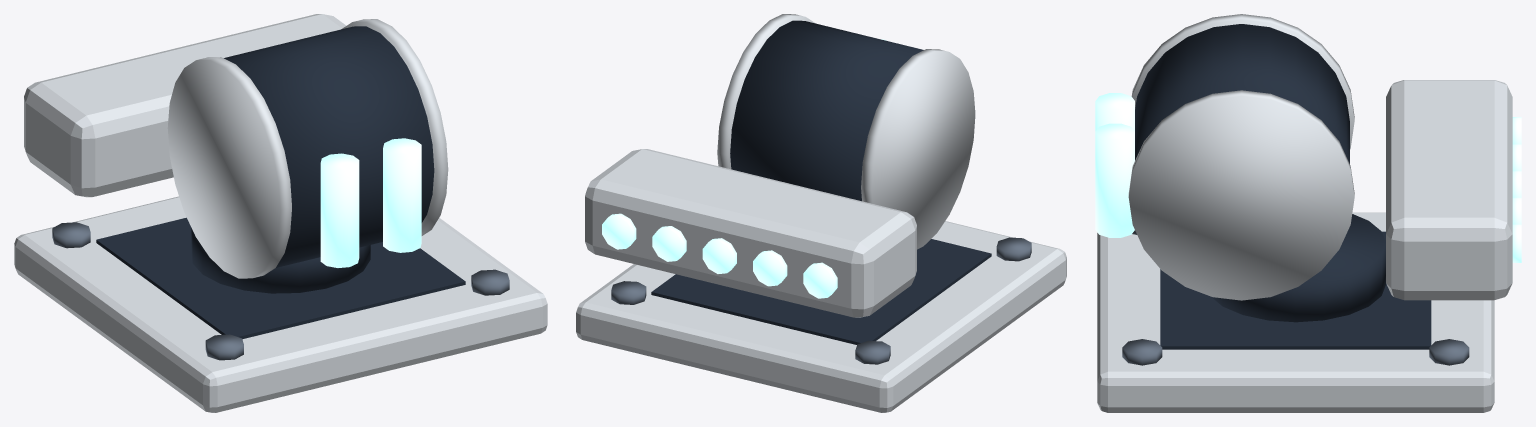
The model's file is scatter.fbx.
3 renders of one model, left to right at view 1: azimuth 30°, elevation 25°; view 2: azimuth 150°, elevation 25°; view 3: azimuth 270°, elevation 25°, orthographic. The views are drawn at different scales.
Parts seen in each view (by area): view 1: Panel_Plate0.002, Inset_Drum0, Panel_Muzzle0, Panel_Cap0, Inset_Inset0.002, Emit_Cell0.002, Emit_Cell1.002, Inset_Ring0.002, Panel_Cap1, Gun_Bolt2.002, Gun_Bolt1.002, Gun_Bolt0.002; view 2: Panel_Plate0.002, Panel_Muzzle0, Inset_Drum0, Panel_Cap0, Inset_Inset0.002, Panel_Cap1, Emit_Hole3, Emit_Hole0, Emit_Hole1, Emit_Hole4, Emit_Hole2, Gun_Bolt0.002 (+2 smaller); view 3: Panel_Cap1, Panel_Plate0.002, Panel_Muzzle0, Inset_Drum0, Inset_Inset0.002, Inset_Ring0.002, Emit_Cell1.002, Panel_Cap0, Emit_Cell0.002, Gun_Bolt2.002, Gun_Bolt3.002, Emit_Hole4.
Boxes of the visible parts, <box> form: Panel_Plate0.002: <box>14,196,547,412</box>; Inset_Drum0: <box>224,26,434,267</box>; Panel_Muzzle0: <box>24,14,346,197</box>; Panel_Cap0: <box>167,57,291,278</box>; Inset_Inset0.002: <box>96,217,465,339</box>; Emit_Cell0.002: <box>320,153,359,267</box>; Emit_Cell1.002: <box>383,138,421,252</box>; Inset_Ring0.002: <box>191,228,370,293</box>; Panel_Cap1: <box>341,19,448,235</box>; Gun_Bolt2.002: <box>471,269,509,295</box>; Gun_Bolt1.002: <box>52,222,90,248</box>; Gun_Bolt0.002: <box>205,334,243,360</box>; Panel_Plate0.002: <box>576,221,1066,412</box>; Panel_Muzzle0: <box>585,149,916,317</box>; Inset_Drum0: <box>730,20,923,201</box>; Panel_Cap0: <box>861,49,975,249</box>; Inset_Inset0.002: <box>651,239,991,344</box>; Panel_Cap1: <box>717,14,815,169</box>; Emit_Hole3: <box>652,226,686,261</box>; Emit_Hole0: <box>803,262,837,298</box>; Emit_Hole1: <box>753,250,787,286</box>; Emit_Hole4: <box>602,213,636,249</box>; Emit_Hole2: <box>702,238,736,273</box>; Gun_Bolt0.002: <box>996,237,1031,261</box>; Panel_Cap1: <box>1128,90,1354,300</box>; Panel_Plate0.002: <box>1097,212,1494,412</box>; Panel_Muzzle0: <box>1386,80,1512,300</box>; Inset_Drum0: <box>1135,24,1349,163</box>; Inset_Inset0.002: <box>1160,231,1431,349</box>; Inset_Ring0.002: <box>1211,214,1385,322</box>; Emit_Cell1.002: <box>1095,123,1134,237</box>; Panel_Cap0: <box>1131,14,1354,149</box>; Emit_Cell0.002: <box>1095,93,1134,131</box>; Gun_Bolt2.002: <box>1122,339,1162,365</box>; Gun_Bolt3.002: <box>1429,339,1469,365</box>; Emit_Hole4: <box>1512,224,1521,262</box>.
Bounding box in the file's own units: 0.44 × 0.472 × 0.34.
